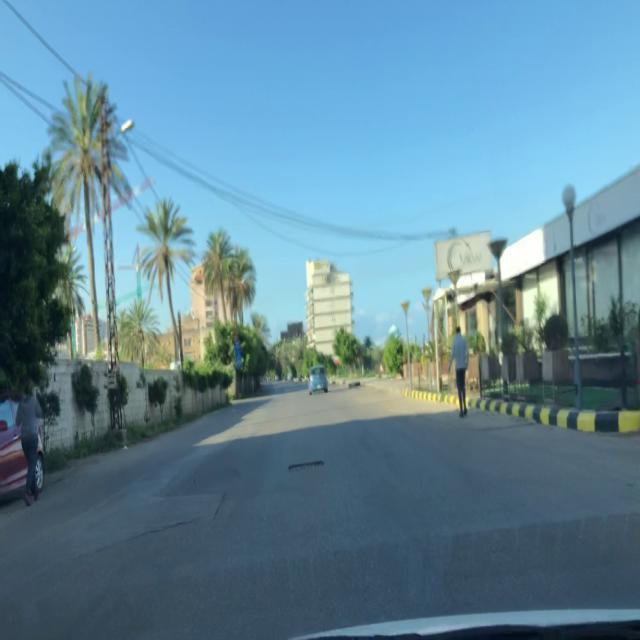Buraco: (286, 459, 327, 474)
